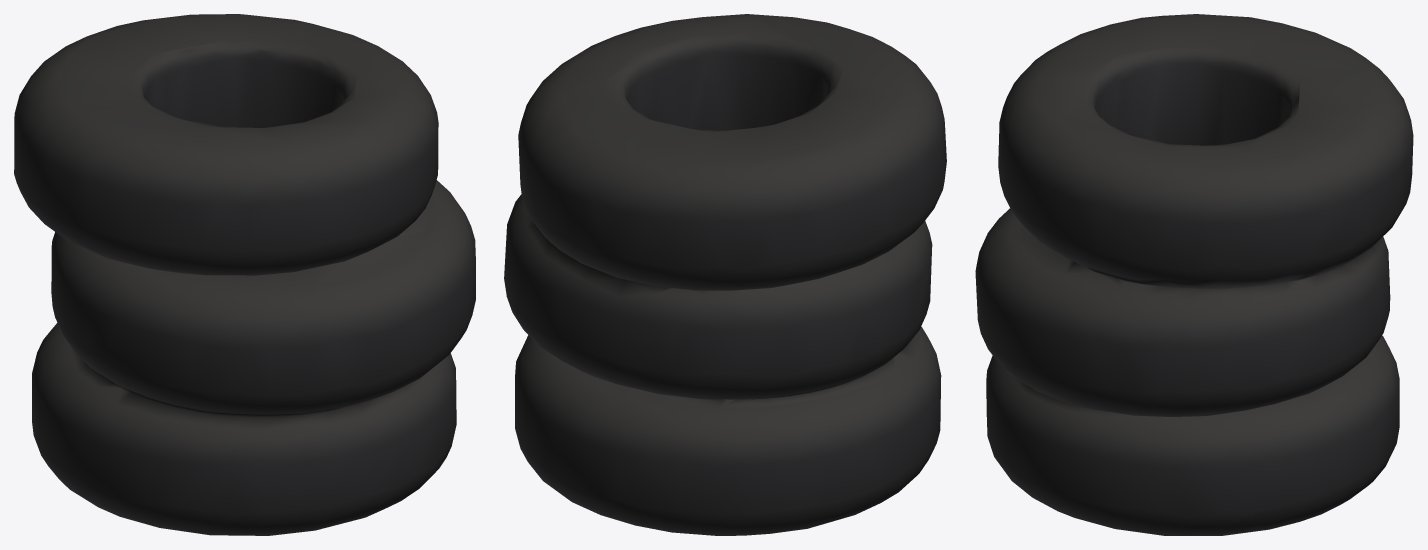
The model's file is tyre_stack.glb.
The picture shows the model from 3 angles, left to right: view 1: azimuth 30°, elevation 25°; view 2: azimuth 150°, elevation 25°; view 3: azimuth 270°, elevation 25°; orthographic projection. The views are drawn at different scales.
Visible parts, largest first — view 1: tyre_stack_rubber; view 2: tyre_stack_rubber; view 3: tyre_stack_rubber.
Part boxes in pixels (bbox=[...]): tyre_stack_rubber: bbox=[14, 14, 475, 535]; tyre_stack_rubber: bbox=[504, 14, 946, 535]; tyre_stack_rubber: bbox=[975, 14, 1413, 535].
Bounding box in the file's own units: 0.6868 × 0.6402 × 0.6776.
Materials: 1 (1 with a texture image).
